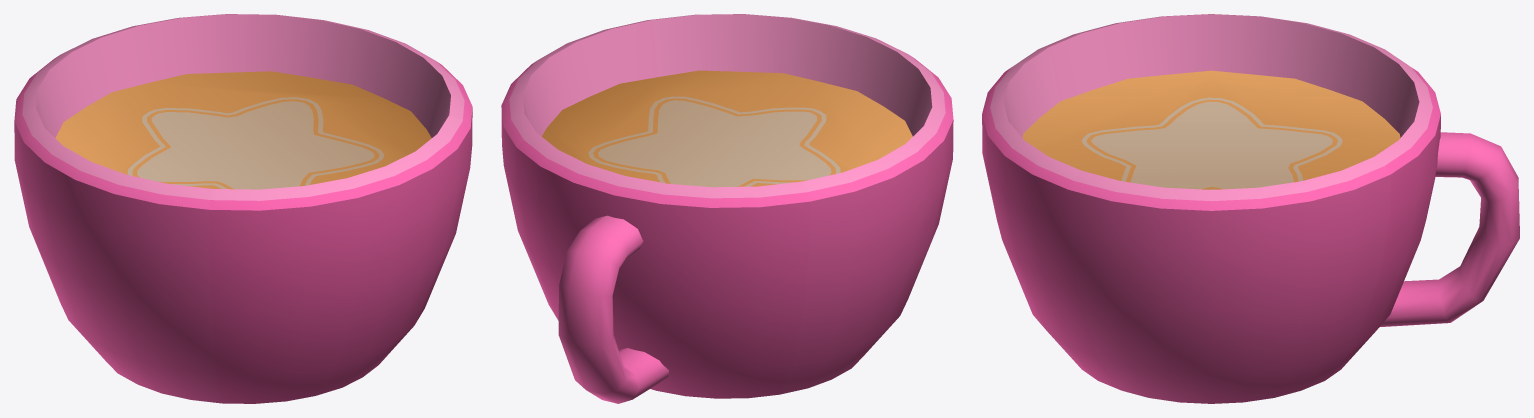
File: Cofe Cup Star_1.fbx
3 views of the same model, side by side, from view 1: azimuth 30°, elevation 25°; view 2: azimuth 150°, elevation 25°; view 3: azimuth 270°, elevation 25° (orthographic).
Visible parts, largest first — view 1: Cofe Cup Star_1; view 2: Cofe Cup Star_1; view 3: Cofe Cup Star_1.
Boxes of the visible parts, <box> form: Cofe Cup Star_1: <box>14,14,472,403</box>; Cofe Cup Star_1: <box>501,14,953,403</box>; Cofe Cup Star_1: <box>982,14,1519,403</box>.
Bounding box in the file's own units: 0.1 × 0.0579 × 0.1172.
1 material, 1 textured.
